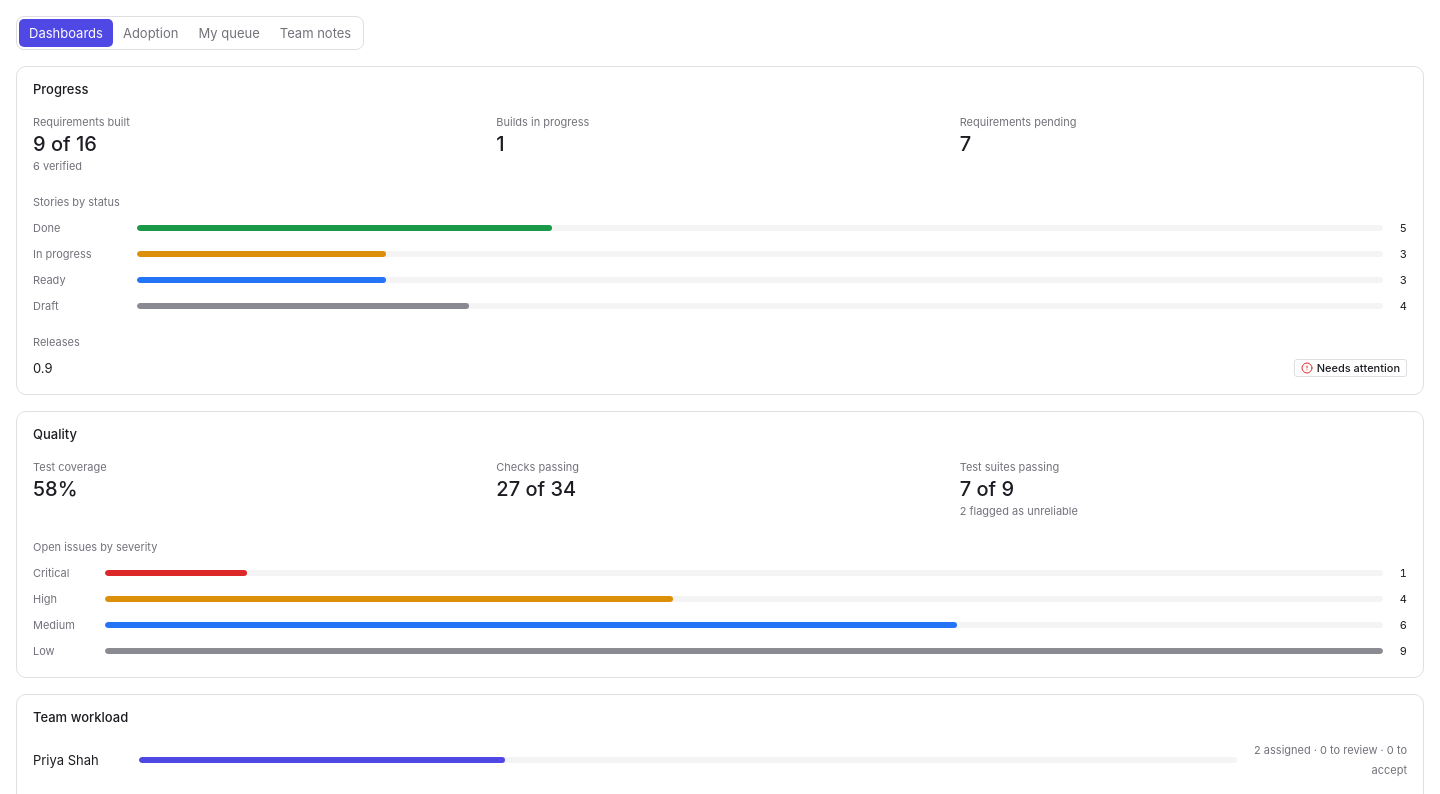
Scenario: InsightsSection › My queue tab lists items waiting on the current user
This screenshot has width=1440, height=794.
Click the tab "My queue" at coordinates (229, 33), box [188,19,270,47]
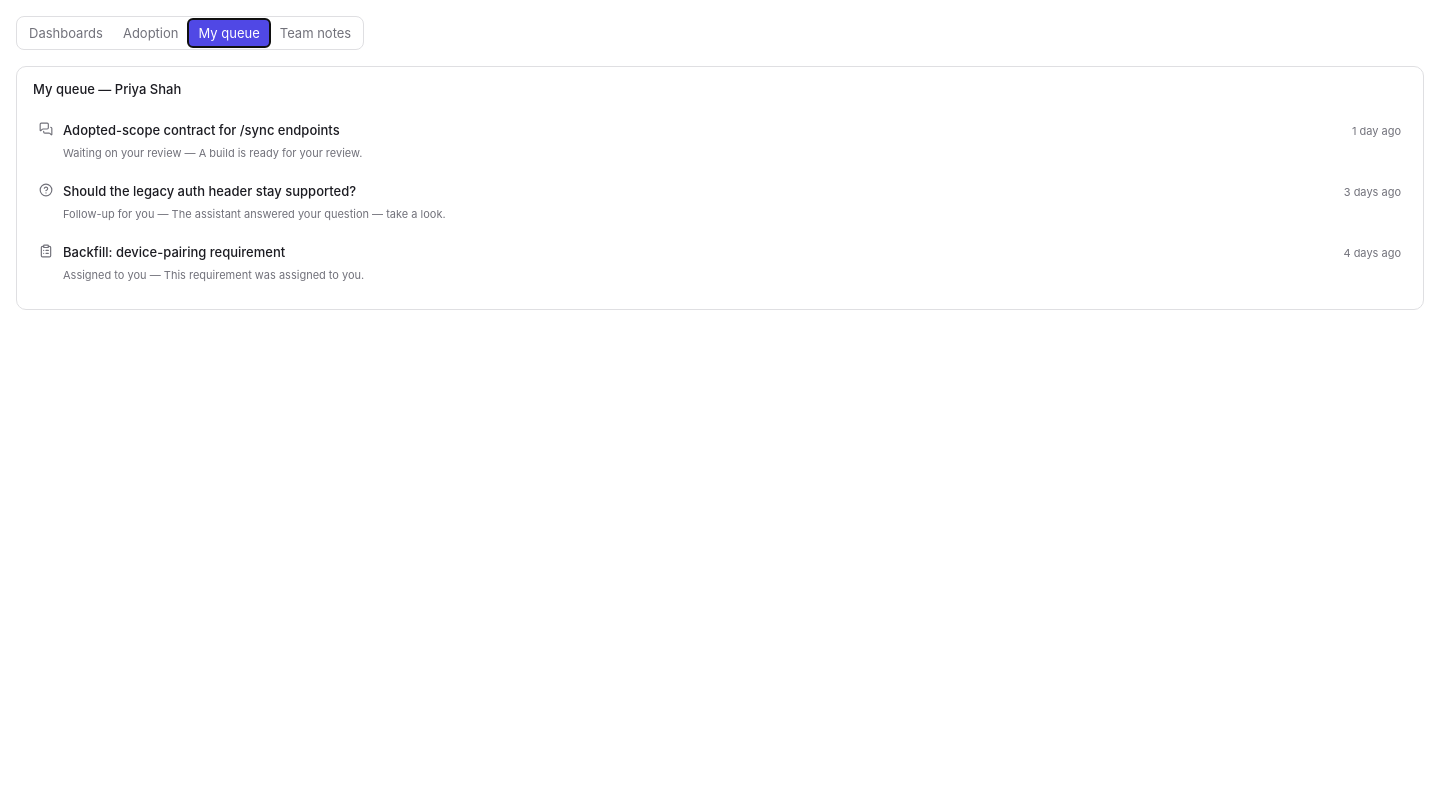
Check: the heading "My queue — Priya Shah" is shown, box [33,81,181,97]
Check: the text "Adopted-scope contract for /sync endpoints" is shown, box [63,120,340,140]
Check: the text "Waiting on your review — A build is ready for your review." is shown, box [63,146,362,160]
